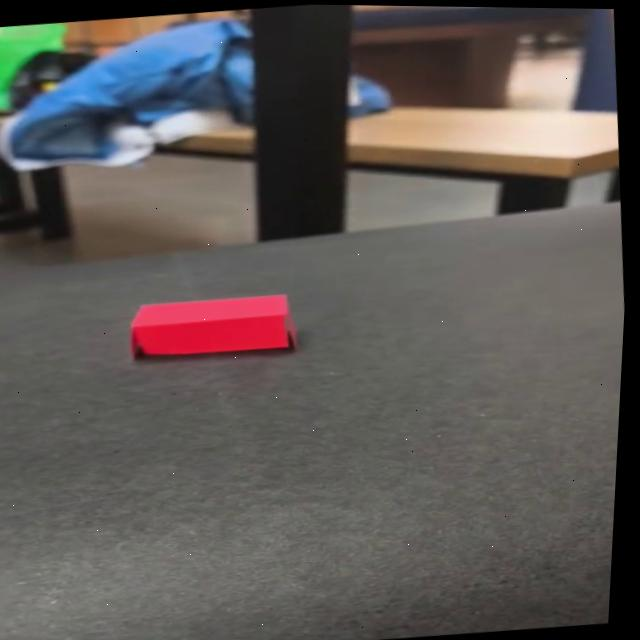red block: (126, 289, 298, 363)
